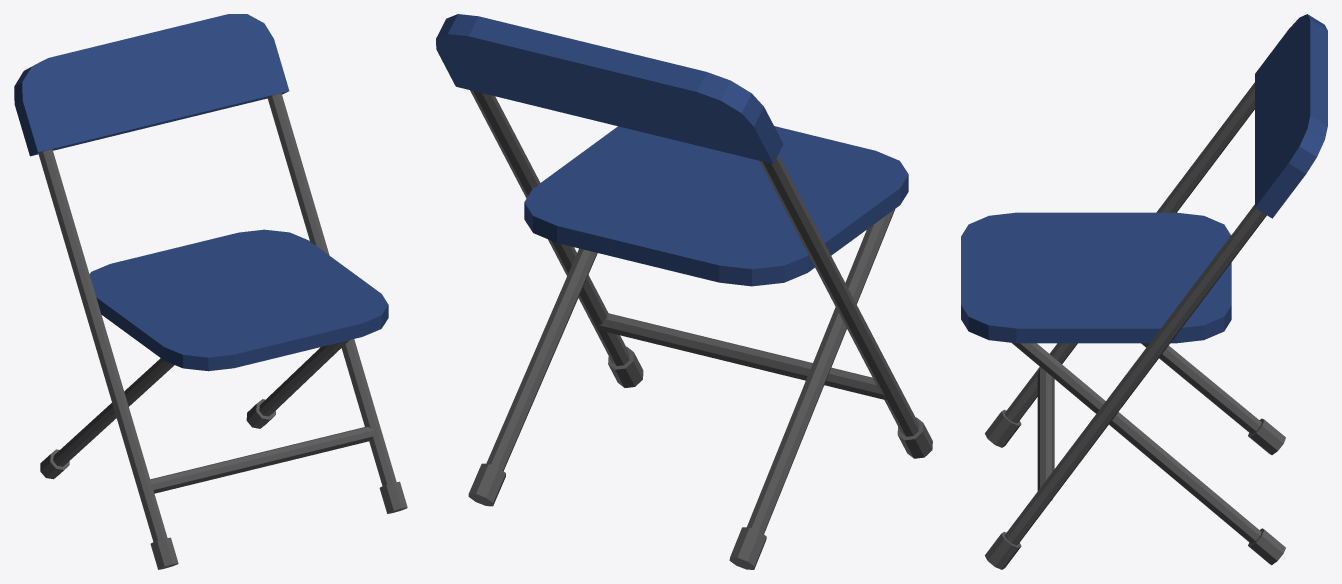
Rendered from Chair05.glb.
The picture shows the model from 3 angles, left to right: view 1: azimuth 30°, elevation 25°; view 2: azimuth 150°, elevation 25°; view 3: azimuth 270°, elevation 25°; orthographic projection. The views are drawn at different scales.
Visible parts, largest first — view 1: Chair05; view 2: Chair05; view 3: Chair05.
Boxes of the visible parts, x1,y1,x2,y2 form: Chair05: [14, 14, 407, 569]; Chair05: [436, 14, 932, 569]; Chair05: [961, 14, 1327, 569].
Bounding box in the file's own units: 0.5932 × 0.9117 × 0.6865.
